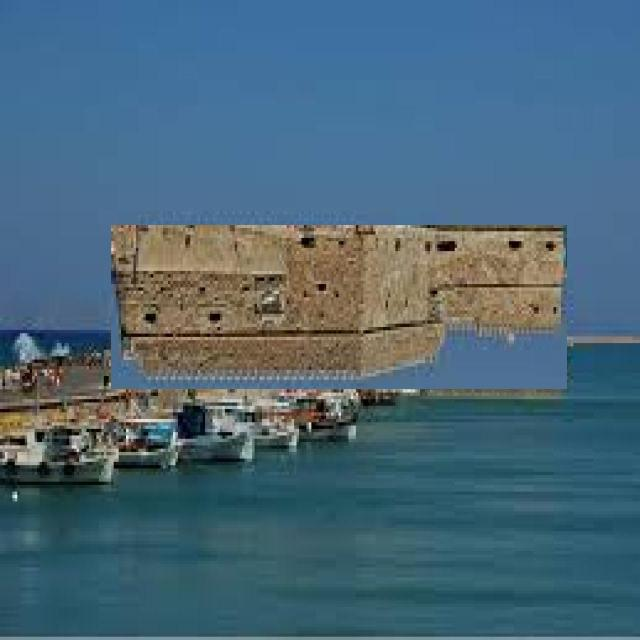Kules: (112, 226, 568, 390)
